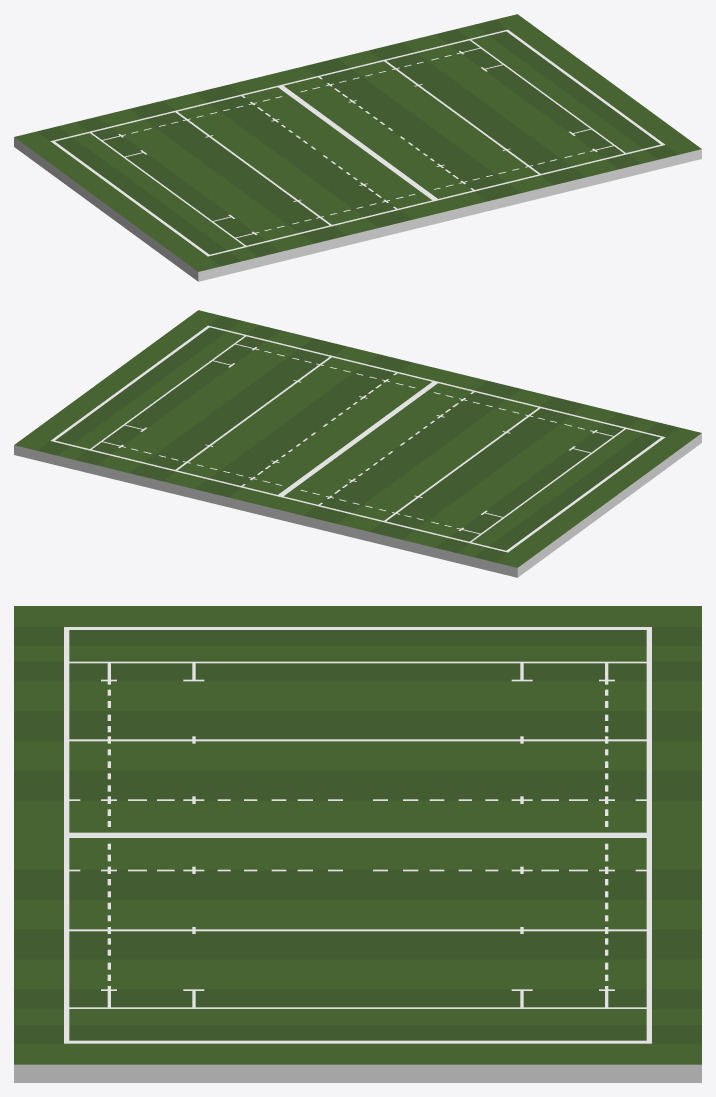
File: rugby-2.fbx
The picture shows the model from 3 angles, top to bottom: view 1: azimuth 30°, elevation 25°; view 2: azimuth 150°, elevation 25°; view 3: azimuth 270°, elevation 25°; orthographic projection. The views are drawn at different scales.
Visible parts, largest first — view 1: Cube; view 2: Cube; view 3: Cube.
Boxes of the visible parts, box(x1,y1,x2,y2) form: Cube: box(14, 14, 701, 281); Cube: box(14, 310, 701, 577); Cube: box(14, 606, 701, 1082).
Size of the model in its own units: 19490 by 365 by 12362.
